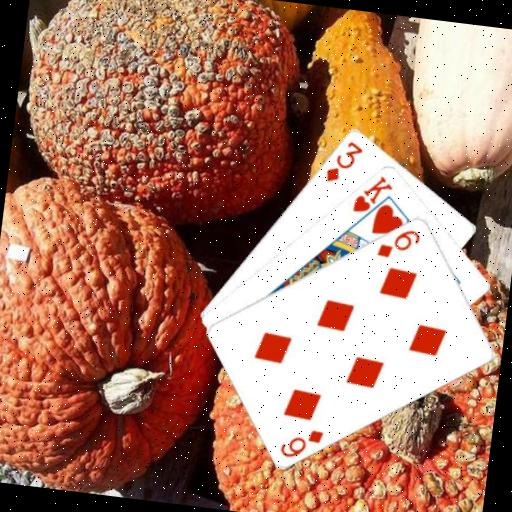3D: (322, 135, 366, 188)
6D: (276, 422, 326, 463), (374, 222, 423, 263)
KH: (349, 169, 396, 218)
